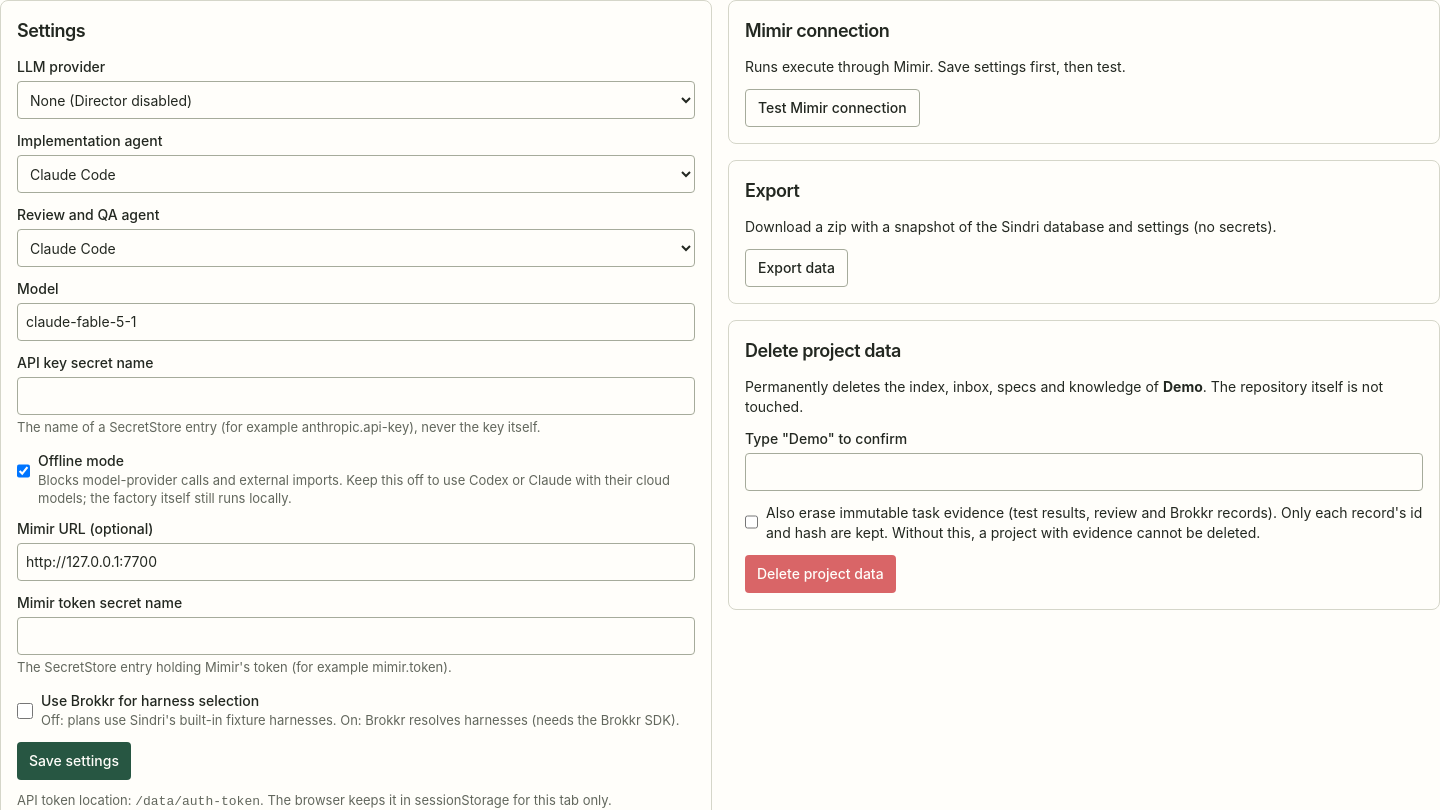
Test: SettingsScreen: Mimir and Brokkr › explains an unconfigured or blocked Mimir
Step 1. Click the button "Test Mimir connection" → (832,108), box [745,89,920,127]
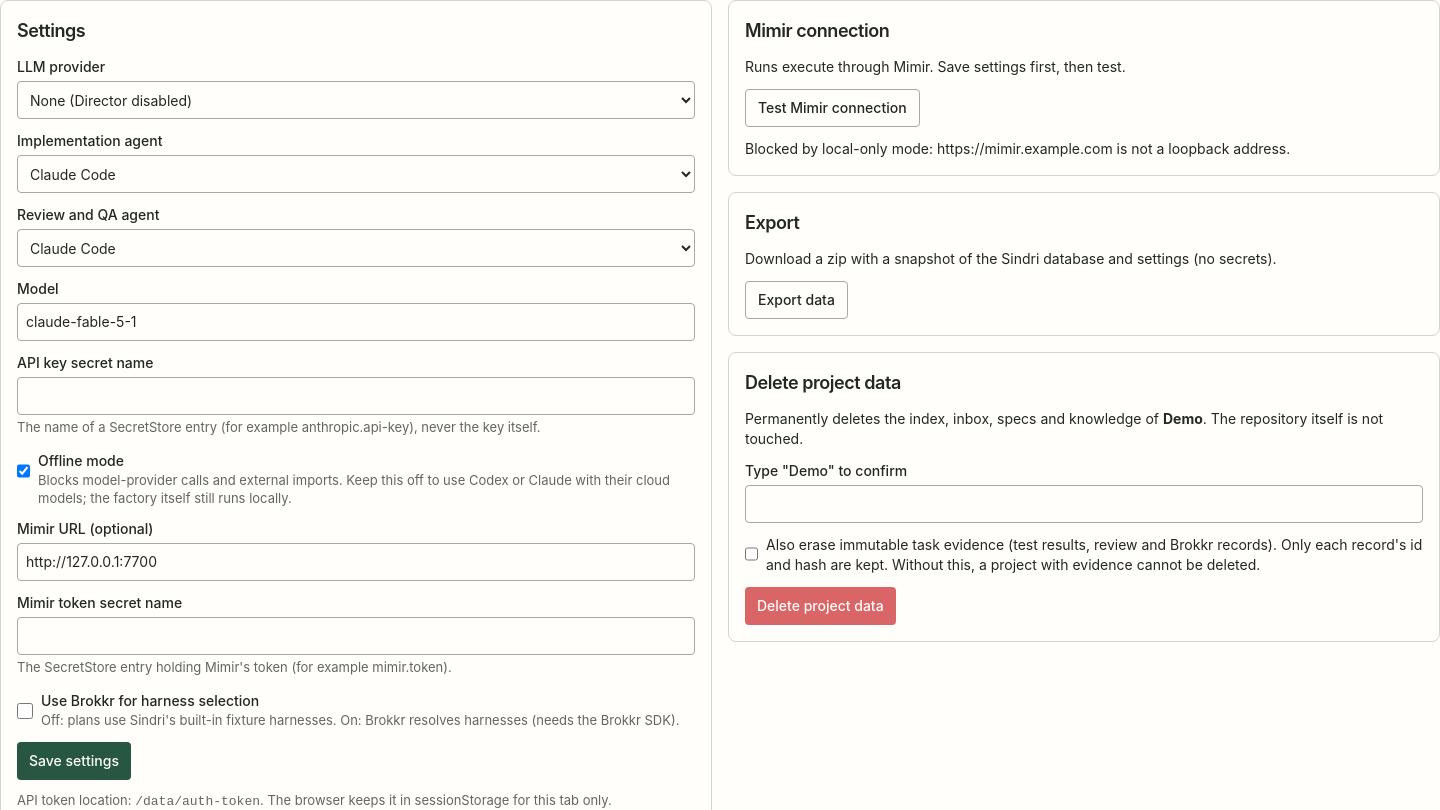
expect the element named "Mimir connection" shows "local-only": met, box [745,140,1290,157]
